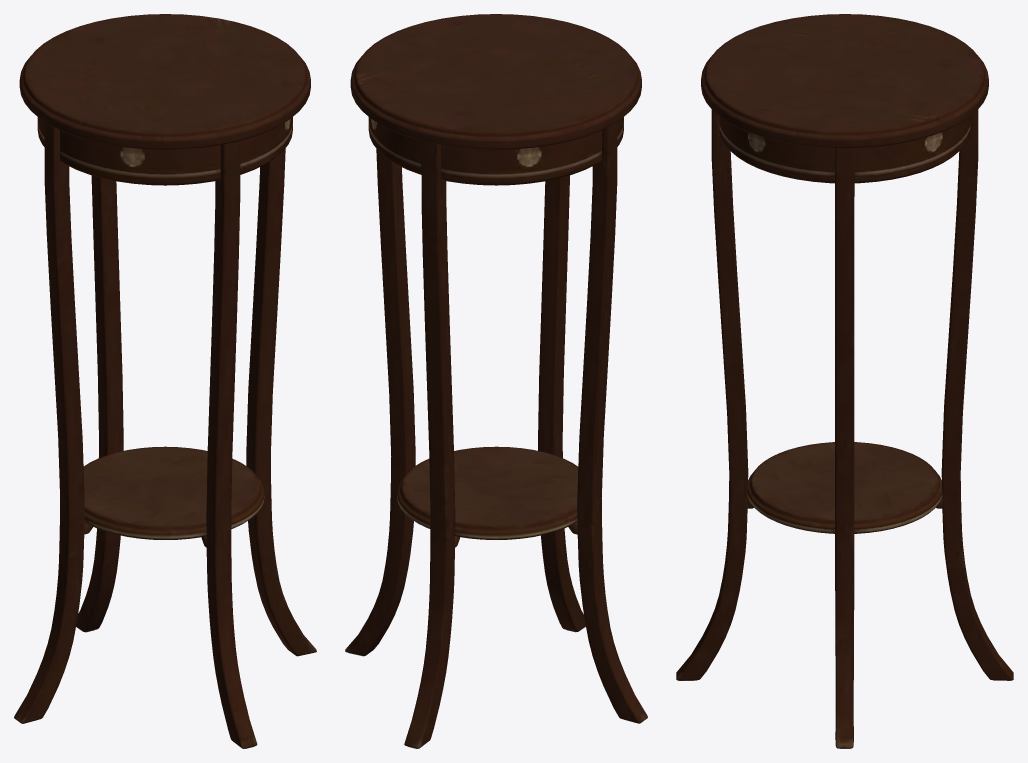
File: side_table_tall_01.glb
3 renders of one model, left to right at view 1: azimuth 30°, elevation 25°; view 2: azimuth 150°, elevation 25°; view 3: azimuth 270°, elevation 25°, orthographic.
Parts seen in each view (by area): view 1: side_table_tall_01; view 2: side_table_tall_01; view 3: side_table_tall_01.
Boxes of the visible parts, x1,y1,x2,y2 form: side_table_tall_01: (14, 14, 316, 748); side_table_tall_01: (345, 14, 647, 748); side_table_tall_01: (676, 14, 1013, 748).
Size of the model in its own units: 0.5045 by 1 by 0.5045.
Materials: 1 (1 with a texture image).
